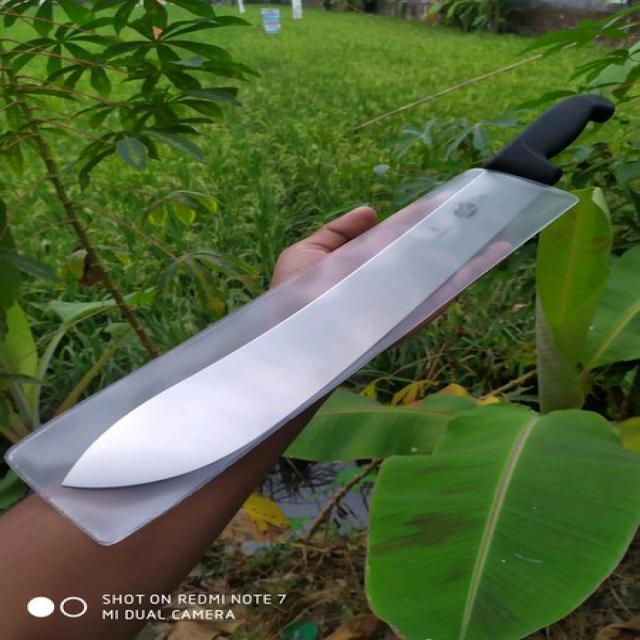Pisau: (62, 83, 625, 510)
